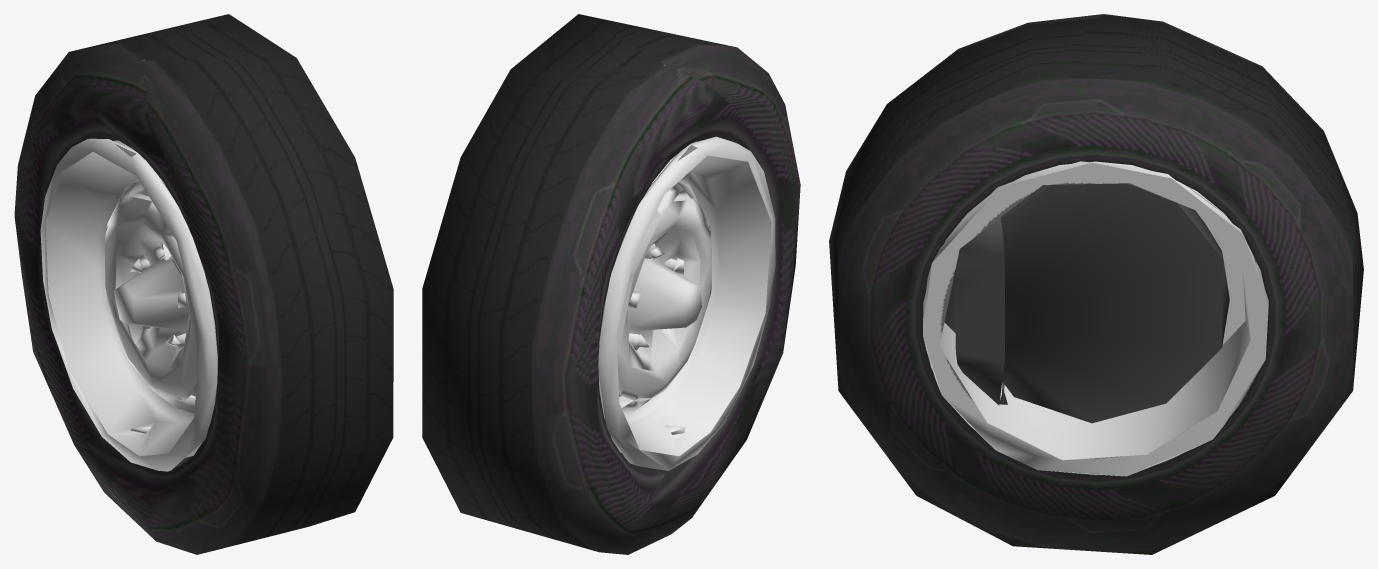
File: cartypewheel0model.obj
3 renders of one model, left to right at view 1: azimuth 30°, elevation 25°; view 2: azimuth 150°, elevation 25°; view 3: azimuth 270°, elevation 25°, orthographic.
Parts seen in each view (by area): view 1: Wheel_Wheel.005; view 2: Wheel_Wheel.005; view 3: Wheel_Wheel.005.
Part boxes in pixels (left/top/right/bottom): Wheel_Wheel.005: left=14, top=14, right=393, bottom=554; Wheel_Wheel.005: left=422, top=14, right=800, bottom=554; Wheel_Wheel.005: left=829, top=14, right=1363, bottom=554.
Size of the model in its own units: 0.2157 by 0.6276 by 0.6283.
